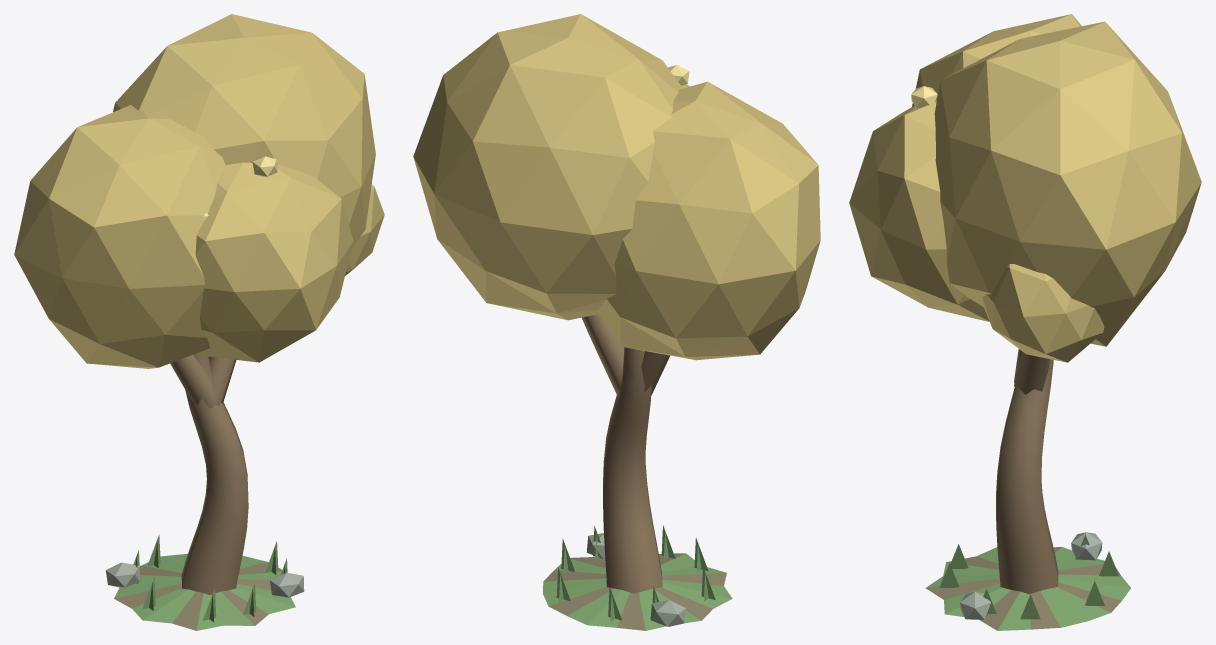
Rendered from flowering_gold.glb.
3 renders of one model, left to right at view 1: azimuth 30°, elevation 25°; view 2: azimuth 150°, elevation 25°; view 3: azimuth 270°, elevation 25°, orthographic. The views are drawn at different scales.
Parts seen in each view (by area): view 1: VR faceted leaf cluster; view 2: VR faceted leaf cluster; view 3: VR faceted leaf cluster.
Part boxes in pixels (<box>): VR faceted leaf cluster: <box>14,14,384,630</box>; VR faceted leaf cluster: <box>413,14,820,630</box>; VR faceted leaf cluster: <box>849,14,1201,630</box>.
Size of the model in its own units: 5.16 by 7.51 by 4.12.
